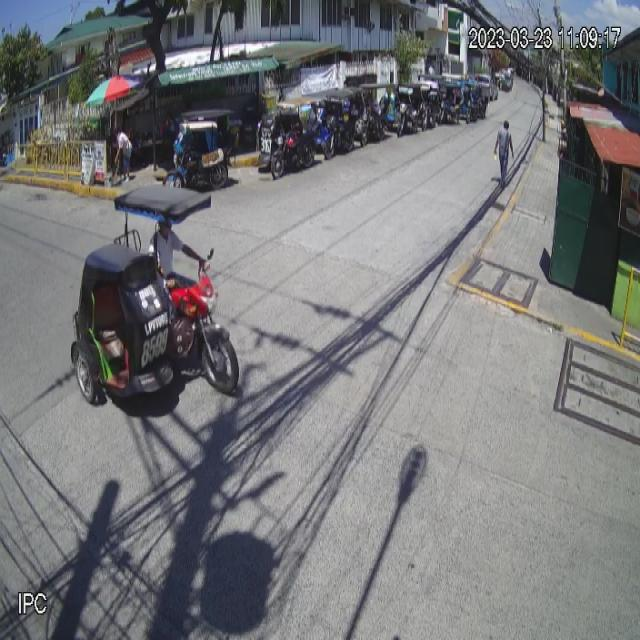Tricycle: (69, 182, 239, 406), (161, 108, 236, 202)
